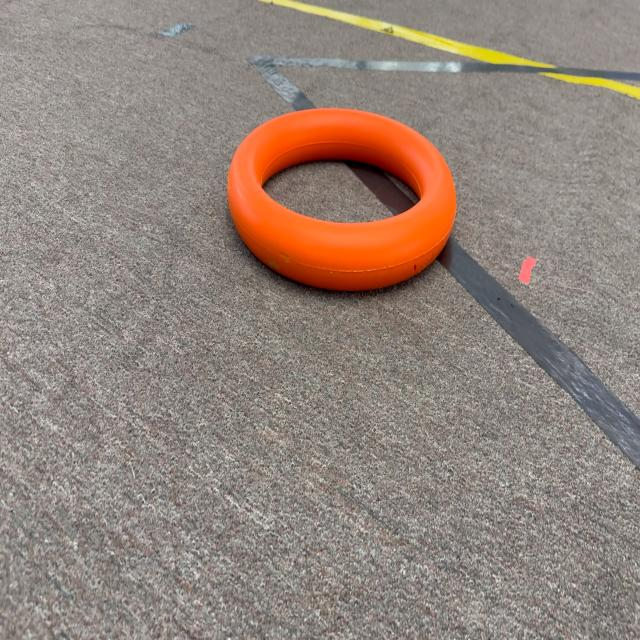note: (223, 105, 465, 298)
